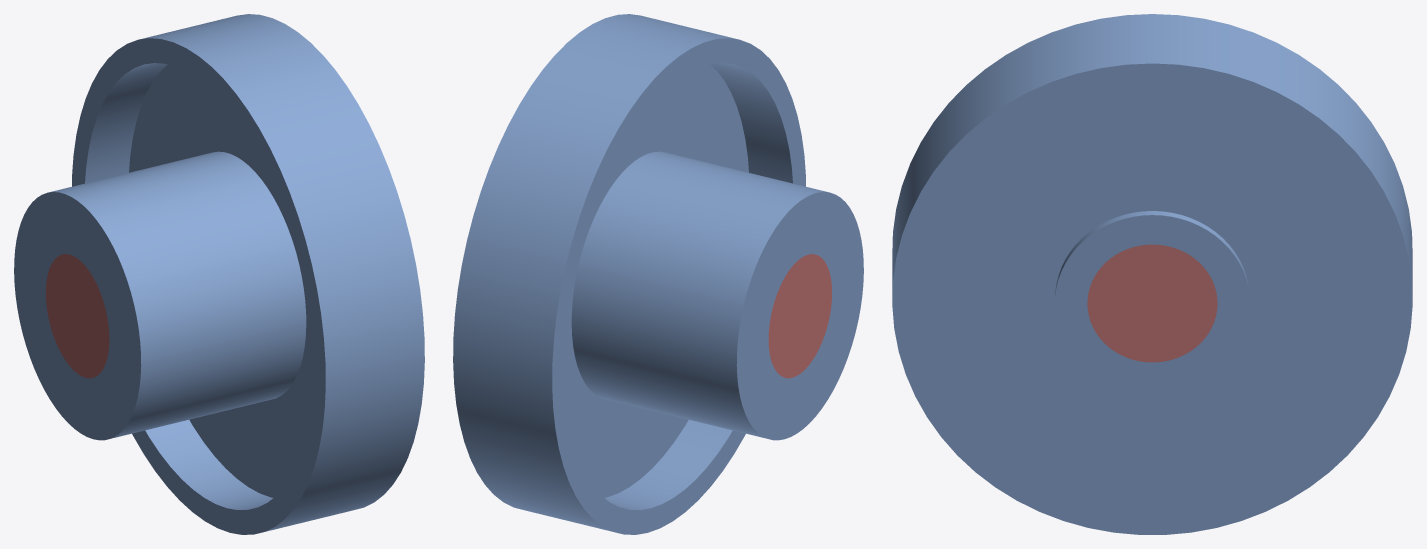
The model's file is step_04.glb.
3 renders of one model, left to right at view 1: azimuth 30°, elevation 25°; view 2: azimuth 150°, elevation 25°; view 3: azimuth 270°, elevation 25°, orthographic. The views are drawn at different scales.
Parts seen in each view (by area): view 1: part__flange A (spigot), removed__flange A (spigot); view 2: part__flange A (spigot), removed__flange A (spigot); view 3: part__flange A (spigot), removed__flange A (spigot).
Part boxes in pixels (x1,y1,x2,y2): part__flange A (spigot): (14, 14, 424, 534); removed__flange A (spigot): (46, 254, 109, 378); part__flange A (spigot): (453, 14, 863, 534); removed__flange A (spigot): (768, 254, 831, 378); part__flange A (spigot): (892, 14, 1412, 534); removed__flange A (spigot): (1087, 244, 1217, 362).
Size of the model in its own units: 83 by 160 by 160.
